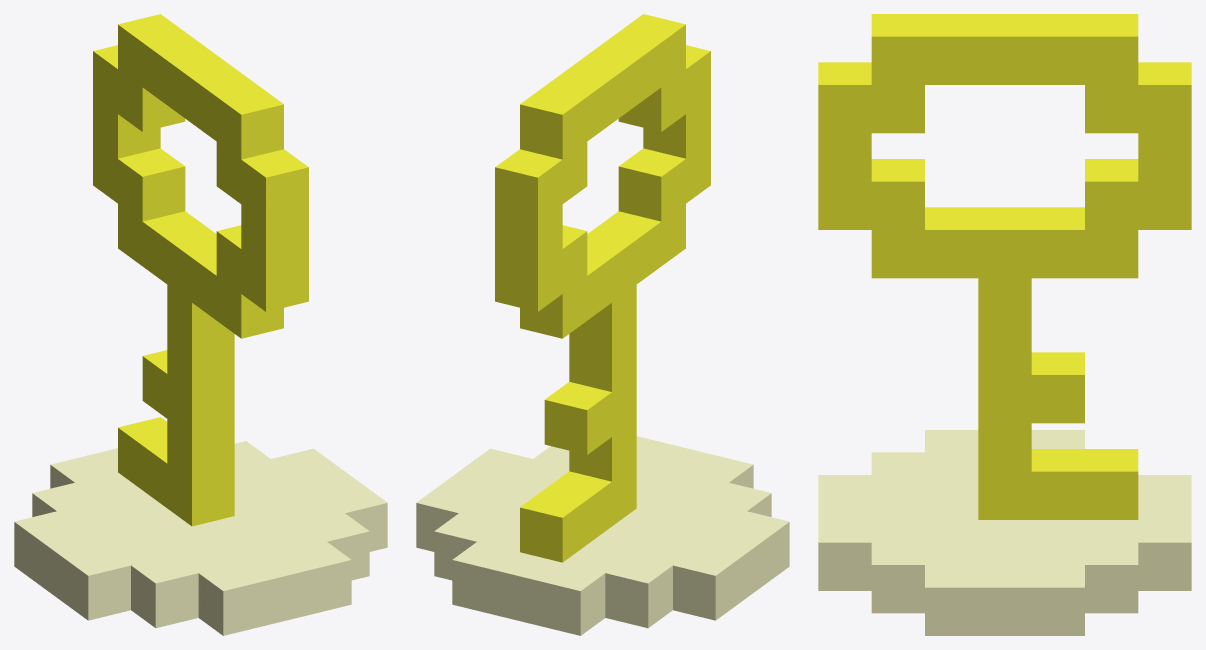
File: Key.gltf
The picture shows the model from 3 angles, left to right: view 1: azimuth 30°, elevation 25°; view 2: azimuth 150°, elevation 25°; view 3: azimuth 270°, elevation 25°; orthographic projection. The views are drawn at different scales.
Parts seen in each view (by area): view 1: Key; view 2: Key; view 3: Key.
Boxes of the visible parts, box(x1,y1,x2,y2) form: Key: box(14, 14, 387, 635); Key: box(416, 14, 789, 635); Key: box(818, 14, 1191, 635).
Size of the model in its own units: 0.7 by 1.1 by 0.7.
1 material, 1 textured.
